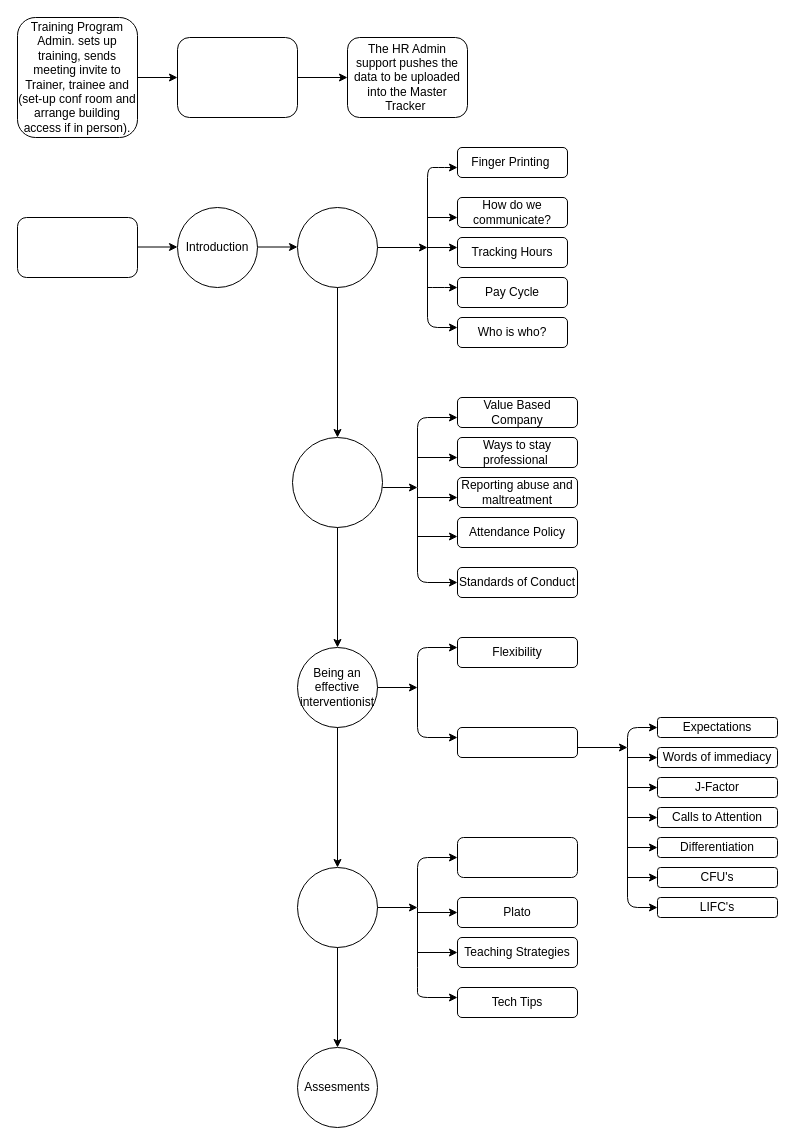
The diagram is 795 pixels wide and 1145 high, and some of its shapes have lost their labels. Here are the shapes that lost their labels. From the top down, the centre of each, then its label:
At (237,77): "The Placement coordinator updates Applicant status into Waiting Room in Trello".
At (77,247): "Training Program".
At (337,247): "Logistics".
At (337,482): "Professionalism".
At (517,742): "Classroom management".
At (517,857): "Types of Programs".
At (337,907): "Programs, Teaching Strategies, and Tech Tips".
